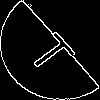T: (25, 25, 85, 77)
